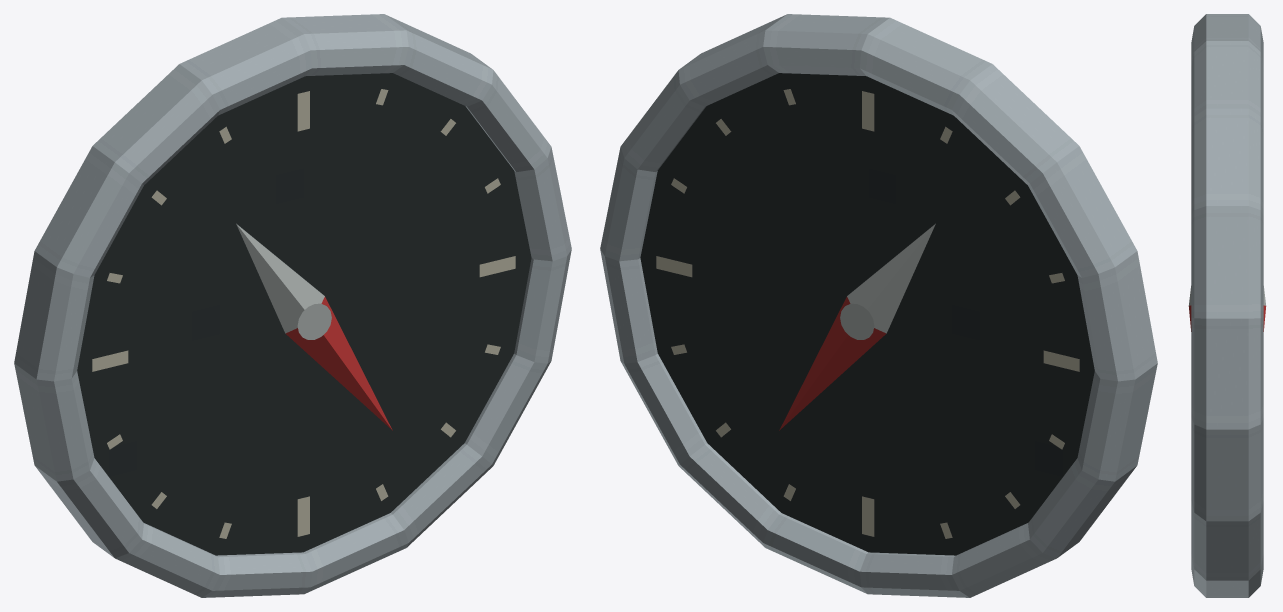
The model's file is compass_29.obj.
3 views of the same model, side by side, from view 1: azimuth 30°, elevation 25°; view 2: azimuth 150°, elevation 25°; view 3: azimuth 270°, elevation 25° (orthographic). The views are drawn at different scales.
Bounding box in the file's own units: 0.6037 × 0.6037 × 0.085.
